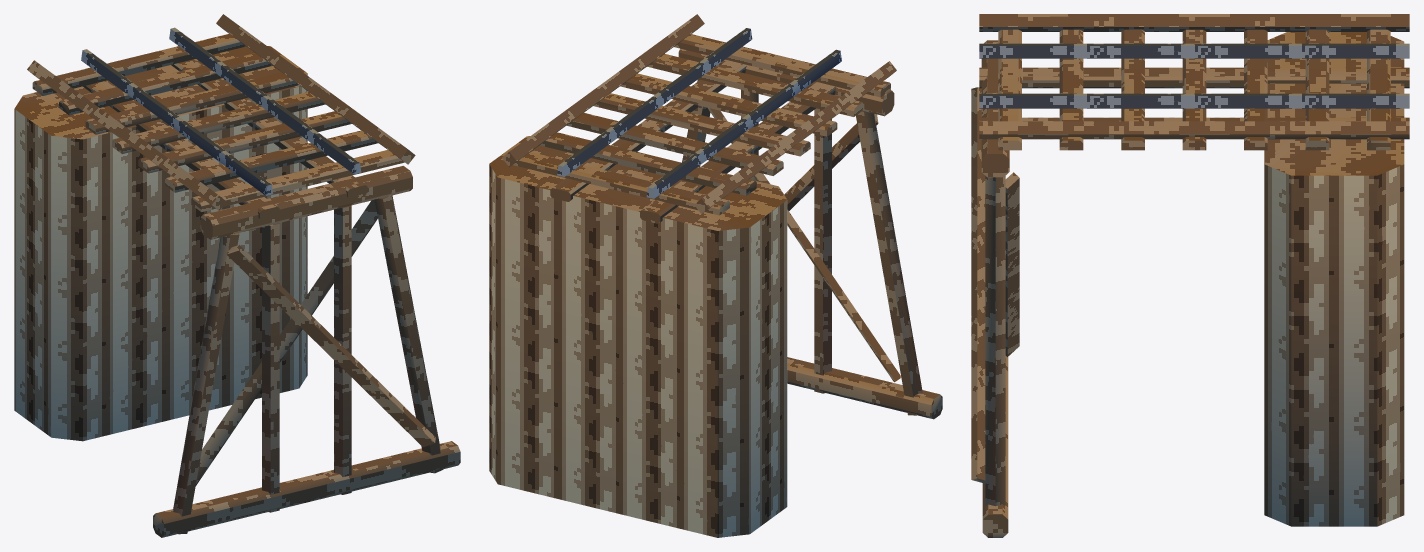
Rendered from wrail.trestle__end.glb.
The picture shows the model from 3 angles, left to right: view 1: azimuth 30°, elevation 25°; view 2: azimuth 150°, elevation 25°; view 3: azimuth 270°, elevation 25°; orthographic projection. The views are drawn at different scales.
Visible parts, largest first — view 1: kit_crib, kit_ties, kit_bents, kit_braces, kit_sills, kit_rails, kit_guards, kit_caps, kit_stringers; view 2: kit_crib, kit_ties, kit_bents, kit_rails, kit_guards, kit_stringers, kit_sills, kit_braces, kit_caps; view 3: kit_crib, kit_guards, kit_rails, kit_ties, kit_braces, kit_bents, kit_stringers, kit_caps, kit_sills.
Boxes of the visible parts, x1,y1,x2,y2 form: kit_crib: (14, 46, 307, 441); kit_ties: (32, 33, 404, 211); kit_bents: (173, 195, 443, 534); kit_braces: (195, 200, 435, 485); kit_sills: (153, 441, 460, 537); kit_rails: (81, 27, 361, 195); kit_guards: (27, 14, 415, 210); kit_caps: (200, 165, 412, 239); kit_stringers: (83, 59, 367, 220); kit_crib: (489, 133, 787, 537); kit_ties: (513, 34, 890, 215); kit_bents: (682, 79, 922, 415); kit_rails: (557, 28, 841, 198); kit_guards: (502, 14, 896, 213); kit_stringers: (550, 60, 836, 223); kit_sills: (787, 357, 942, 419); kit_braces: (707, 107, 901, 382); kit_caps: (678, 48, 894, 116); kit_crib: (1264, 32, 1404, 526); kit_guards: (979, 14, 1409, 139); kit_rails: (979, 43, 1409, 108); kit_ties: (998, 29, 1390, 150); kit_braces: (971, 87, 1019, 483); kit_bents: (985, 176, 1005, 506); kit_stringers: (979, 67, 1409, 121); kit_caps: (981, 40, 1009, 177); kit_sills: (982, 356, 1008, 537).
Bounding box in the file's own units: 3.7 × 3.98 × 4.07.
3 materials, 3 textured.
